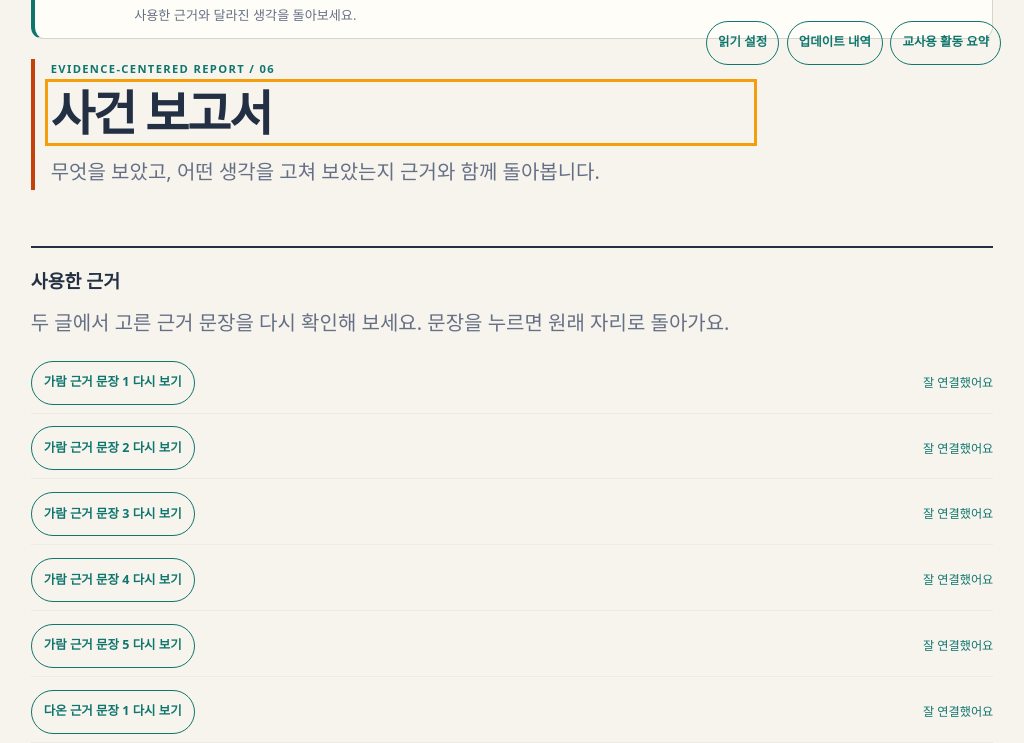
Test: AppShell › revisits the report through the shell without losing stored answers
(page scrolled)
Click the button "가람 근거 문장 1 다시 보기": (113, 383) left=31, top=361, right=195, bottom=405
(page scrolled)
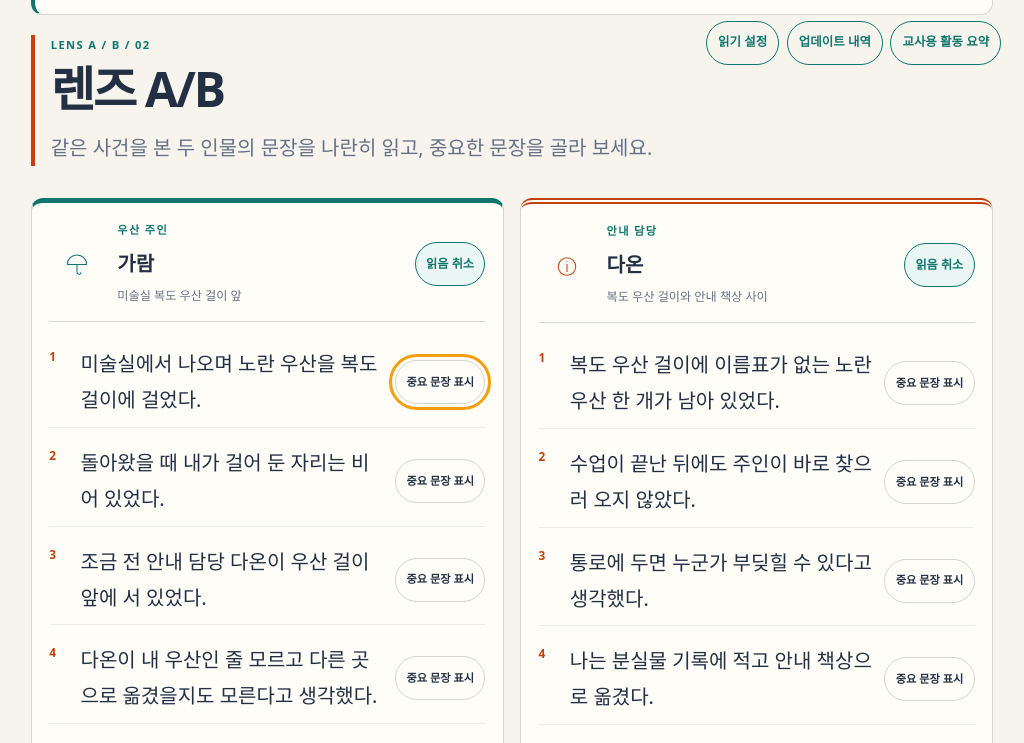
Check: the heading "렌즈 A/B" is shown, box left=51, top=56, right=224, bottom=121
